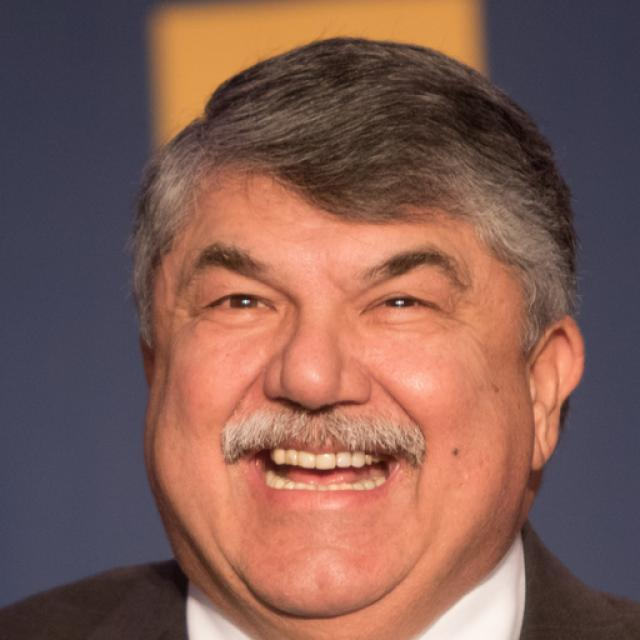happy: (152, 173, 532, 618)
